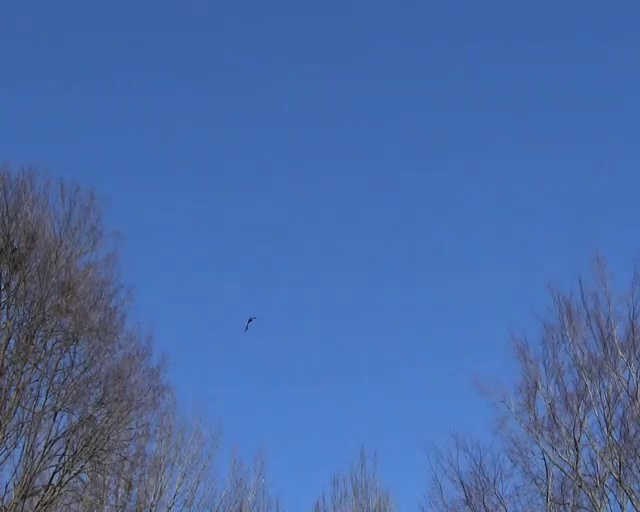BIRD: (245, 316, 258, 332)
